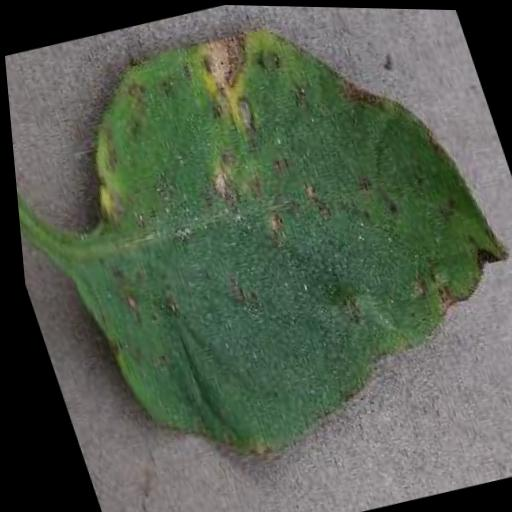Bacterial Spot: (0, 0, 512, 502)
